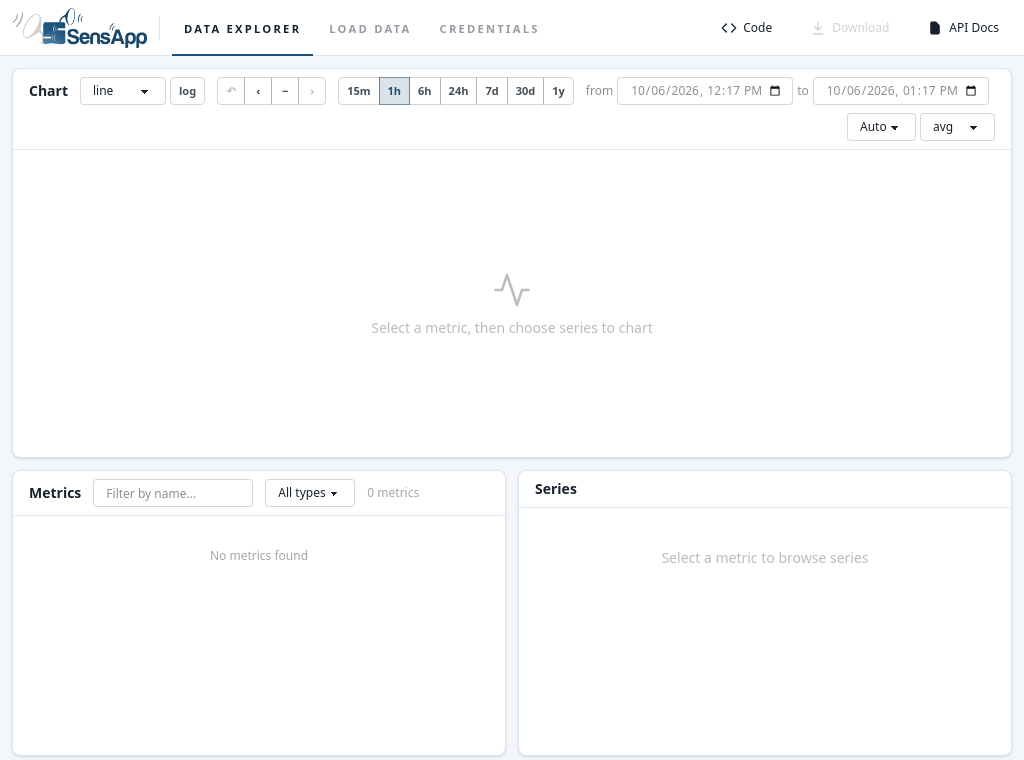
Scenario: LoadPage › is the second tab of the header, next to the explorer
This screenshot has width=1024, height=760.
Check: the navigation bar named "Pages" shows "Data Explorer", box [172, 0, 313, 56]
Check: the button "Code" is shown, box [708, 12, 785, 44]
Click the link "Load Data" at (370, 28), box [329, 21, 412, 36]
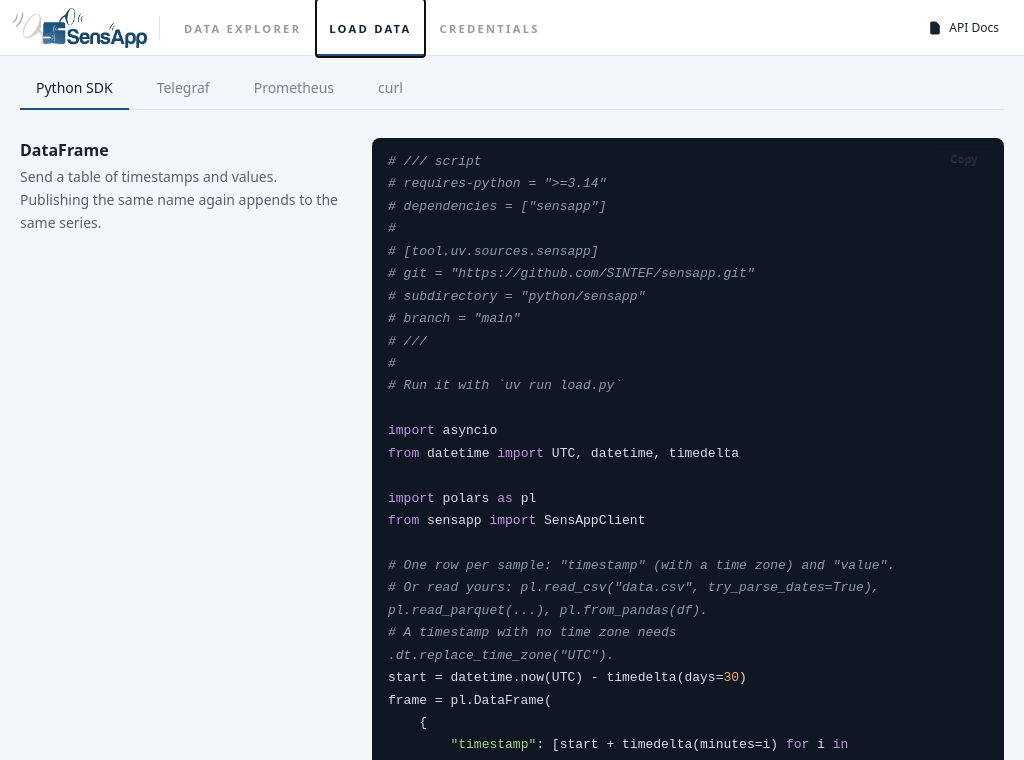
Check: the element named "Way to load data" is shown, box [20, 68, 1004, 110]
Check: the button "Code" is gone
